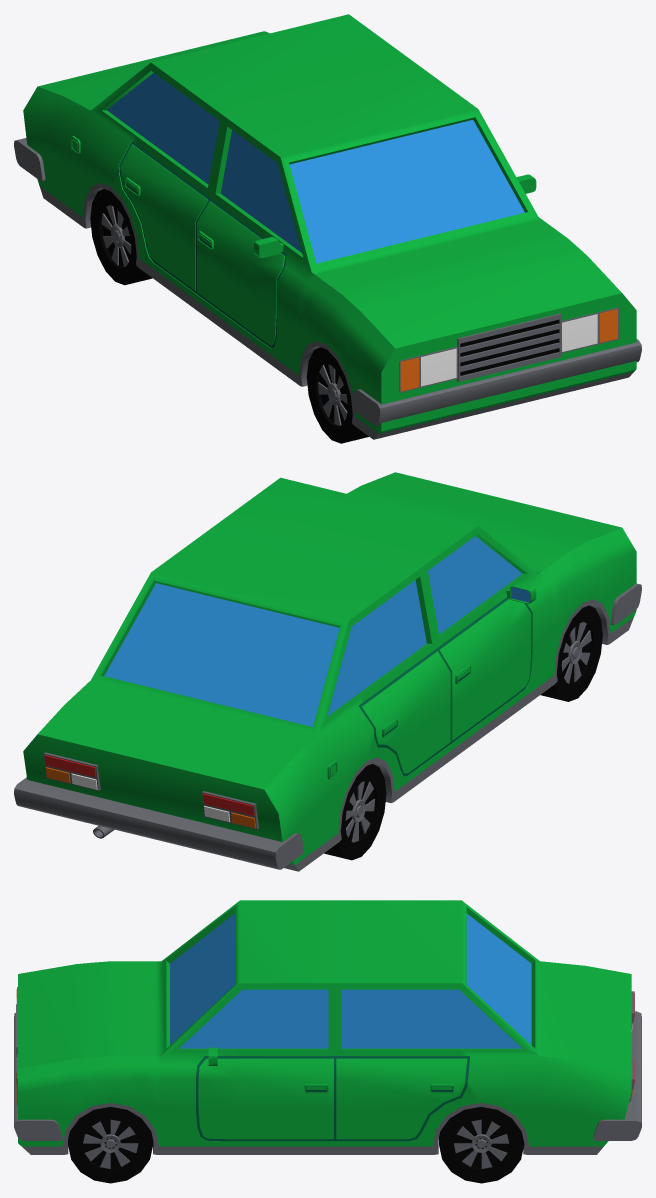
File: stylised_low_poly_car.glb
The picture shows the model from 3 angles, top to bottom: view 1: azimuth 30°, elevation 25°; view 2: azimuth 150°, elevation 25°; view 3: azimuth 270°, elevation 25°; orthographic projection. The views are drawn at different scales.
Visible parts, largest first — view 1: MS_Car_Body, MS_Car_Wheel_BR, MS_Car_Wheel_FR; view 2: MS_Car_Body, MS_Car_Wheel_FR, MS_Car_Wheel_BR; view 3: MS_Car_Body, MS_Car_Wheel_FL, MS_Car_Wheel_BL.
Boxes of the visible parts, left/top/right/bottom form: MS_Car_Body: left=14, top=14, right=641, bottom=439; MS_Car_Wheel_BR: left=90, top=189, right=152, bottom=285; MS_Car_Wheel_FR: left=306, top=347, right=368, bottom=443; MS_Car_Body: left=14, top=472, right=641, bottom=871; MS_Car_Wheel_FR: left=541, top=605, right=602, bottom=701; MS_Car_Wheel_BR: left=324, top=764, right=386, bottom=860; MS_Car_Body: left=14, top=900, right=641, bottom=1154; MS_Car_Wheel_FL: left=68, top=1107, right=153, bottom=1183; MS_Car_Wheel_BL: left=439, top=1107, right=524, bottom=1183.
Size of the model in its own units: 2.1 by 1.61 by 4.81.
1 material, 1 textured.
